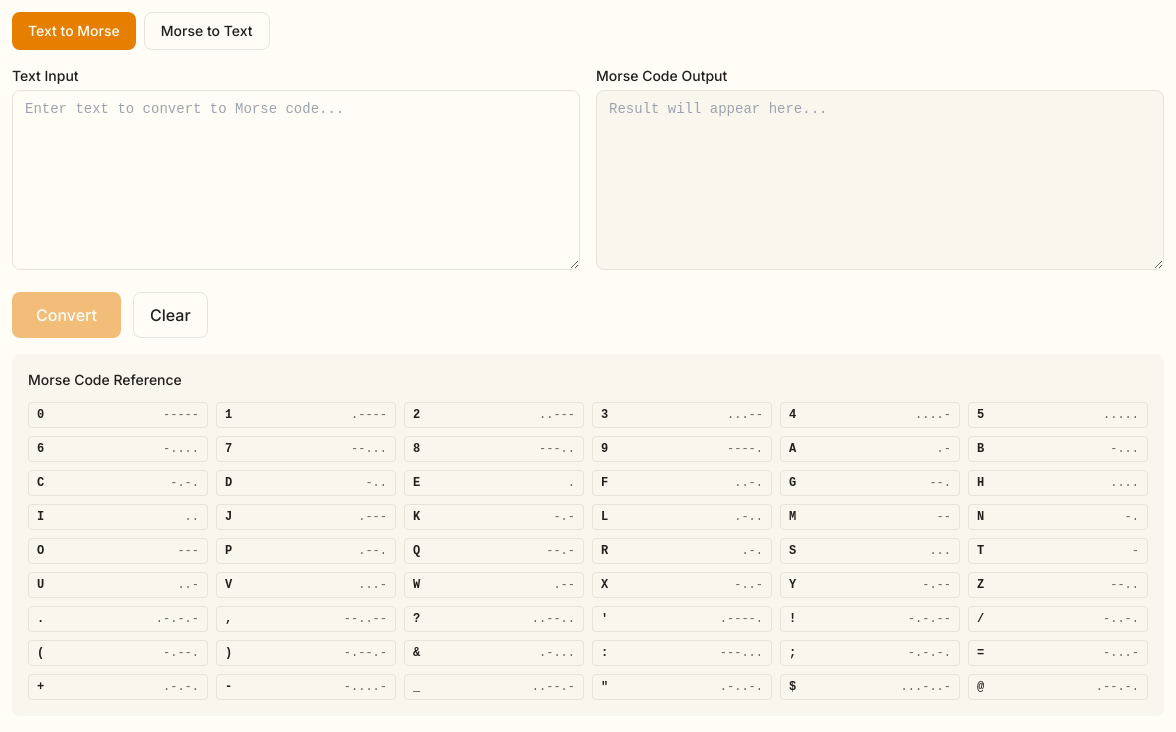
Scenario: MorseCode › converts text to morse code
Step 1. Type "SOS" into the text box named "Text input" → (296, 180), box [12,90,580,270]
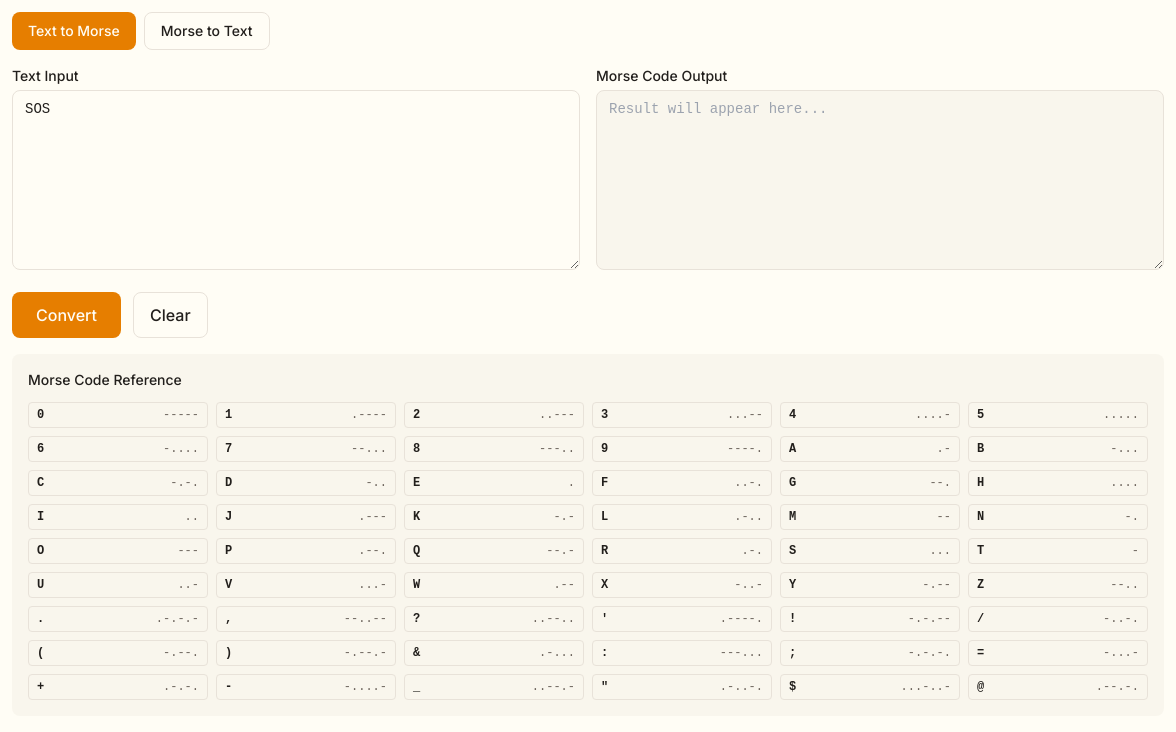
Step 2. Click the button "Convert" → (66, 315), box [12,292,121,338]
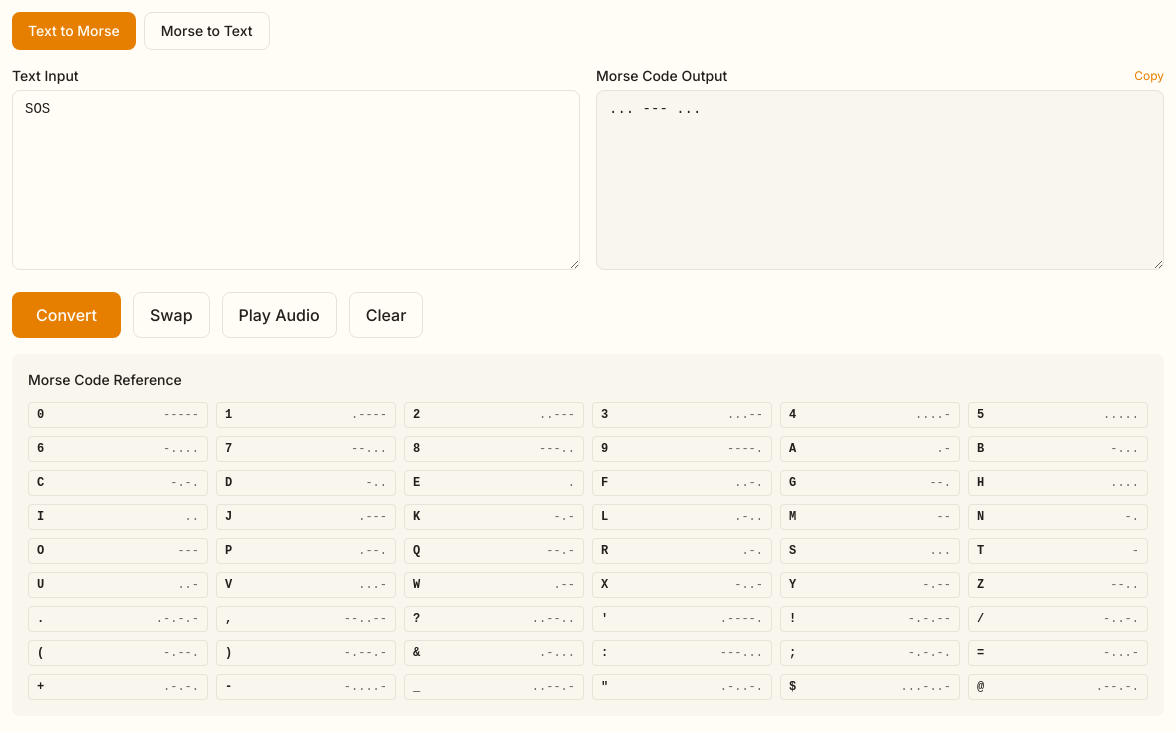
Now the text box named "Conversion output" holds "... --- ...", box [596,90,1164,270]
